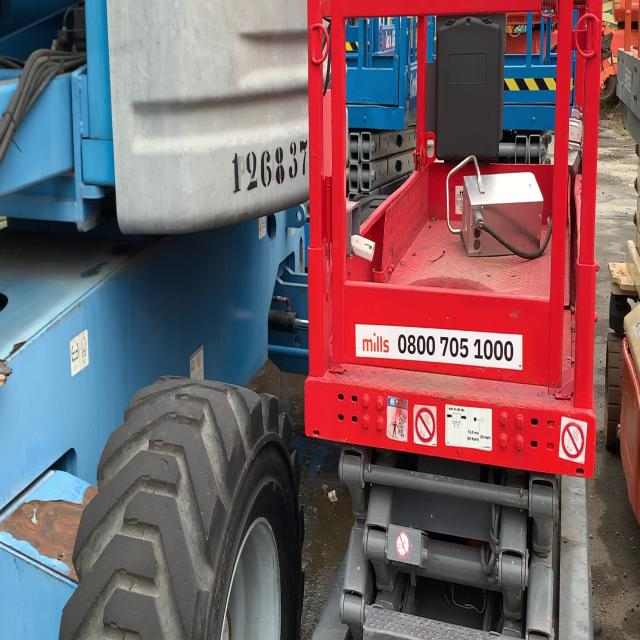Adesivo Longo: (354, 322, 523, 373)
